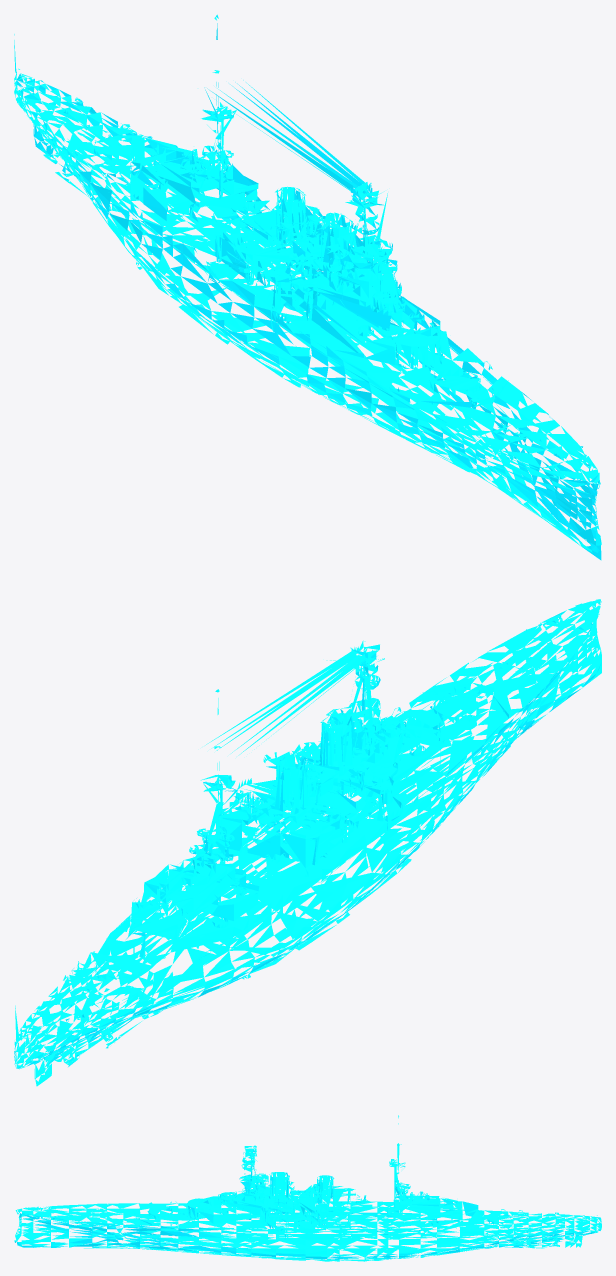
The model's file is Black_Repulse.glb.
3 views of the same model, one above another, from view 1: azimuth 30°, elevation 25°; view 2: azimuth 150°, elevation 25°; view 3: azimuth 270°, elevation 25° (orthographic). The views are drawn at different scales.
Size of the model in its own units: 2.05 by 4.02 by 16.11.
